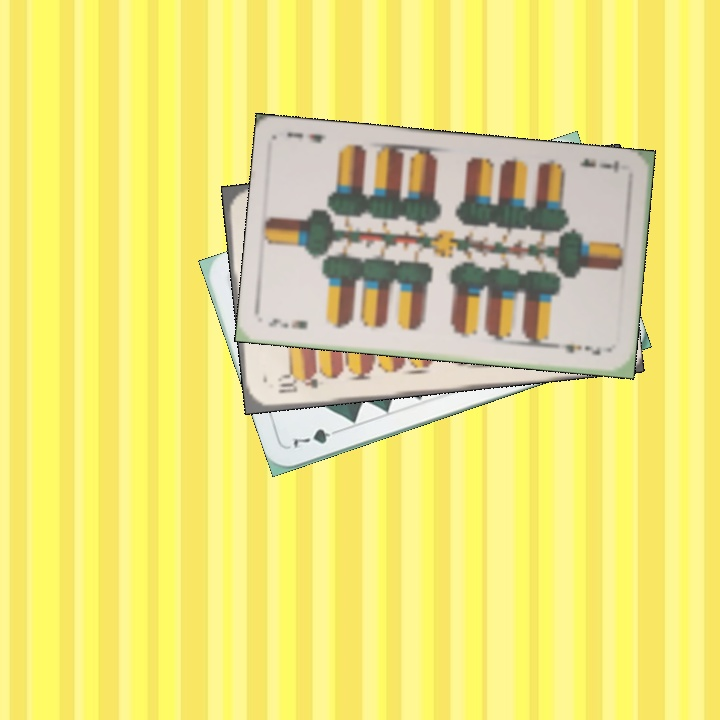E10: (273, 371, 321, 396)
E7: (575, 154, 622, 176), (264, 314, 310, 332)
G7: (289, 424, 346, 451)
